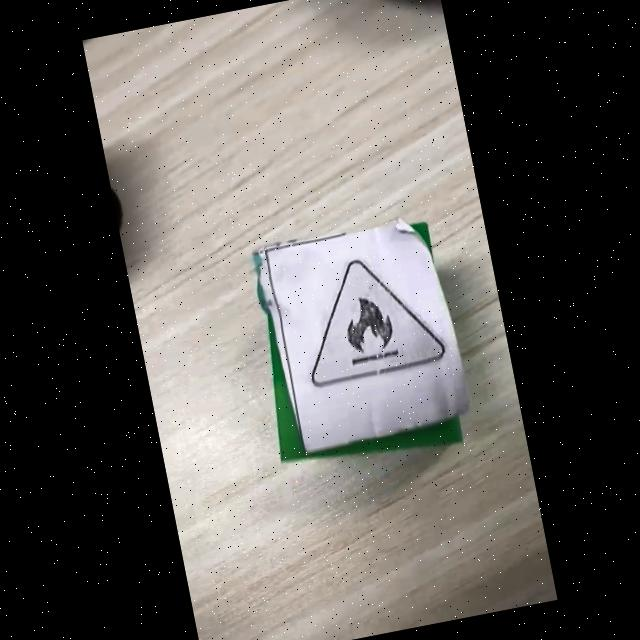Fire: (309, 260, 447, 389)
